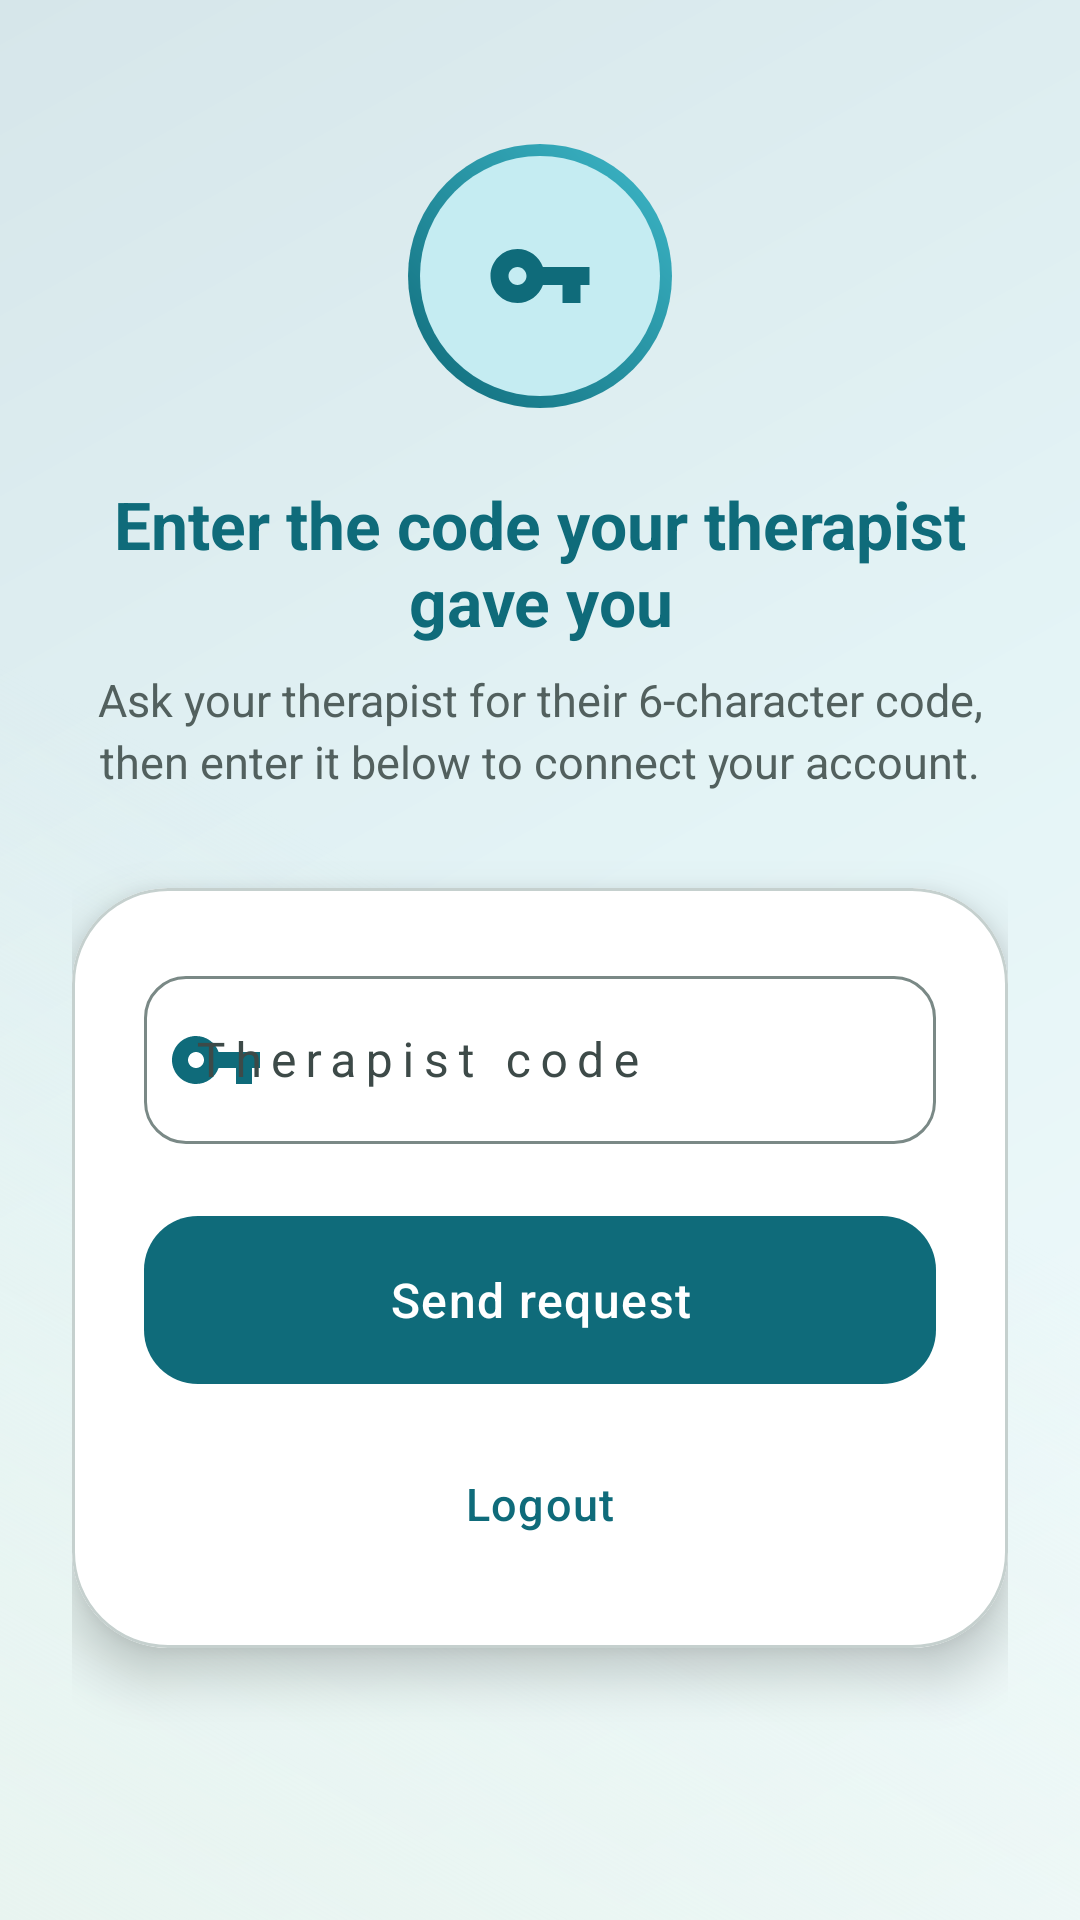

Screen size 1080×1920. Icon name, then its center in pixels as point (x, y):
key connect: point (540, 276)
